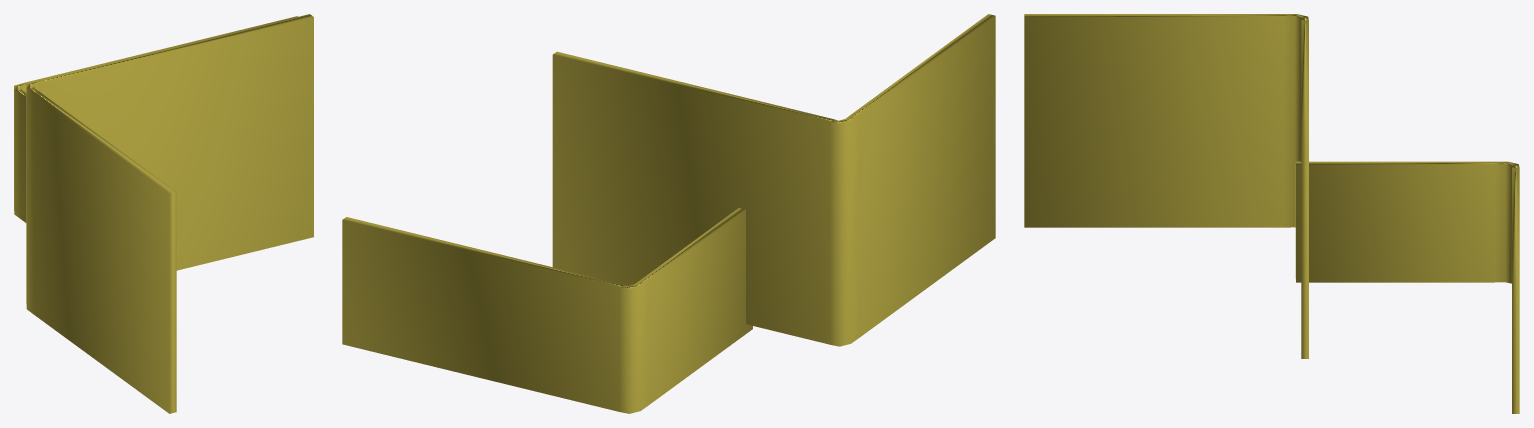
File: SW_corridor__R_lobby_Cube.FBX
3 views of the same model, side by side, from view 1: azimuth 30°, elevation 25°; view 2: azimuth 150°, elevation 25°; view 3: azimuth 270°, elevation 25° (orthographic). The views are drawn at different scales.
Parts seen in each view (by area): view 1: SW_corridor__R_lobby_Cube; view 2: SW_corridor__R_lobby_Cube; view 3: SW_corridor__R_lobby_Cube.
Part boxes in pixels (x1,y1,x2,y2): SW_corridor__R_lobby_Cube: (14, 14, 313, 413); SW_corridor__R_lobby_Cube: (342, 14, 995, 413); SW_corridor__R_lobby_Cube: (1024, 14, 1519, 413).
Size of the model in its own units: 278 by 323 by 158.
